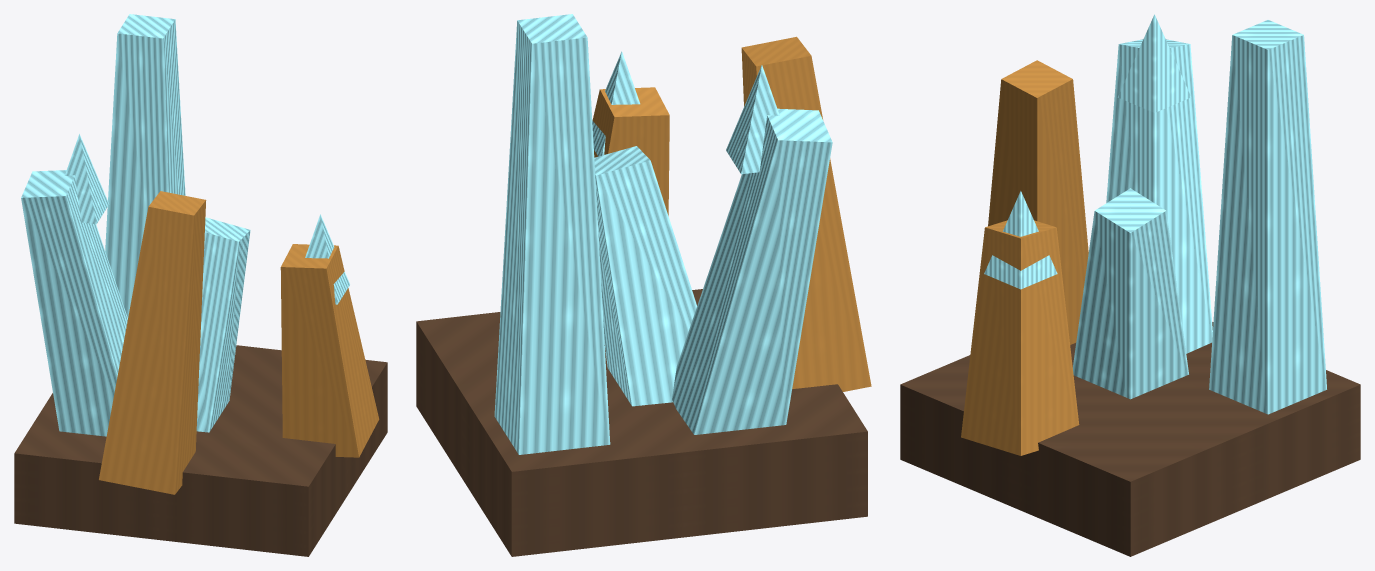
The model's file is atlas100-s013-a04.lod2.glb.
3 renders of one model, left to right at view 1: azimuth 30°, elevation 25°; view 2: azimuth 150°, elevation 25°; view 3: azimuth 270°, elevation 25°, orthographic. The views are drawn at different scales.
Parts seen in each view (by area): view 1: atlas100-s013-a04:part-000, atlas100-s013-a04:part-003, atlas100-s013-a04:part-009, atlas100-s013-a04:part-005, atlas100-s013-a04:part-007, atlas100-s013-a04:part-001, atlas100-s013-a04:part-010, atlas100-s013-a04:part-008; view 2: atlas100-s013-a04:part-000, atlas100-s013-a04:part-005, atlas100-s013-a04:part-009, atlas100-s013-a04:part-001, atlas100-s013-a04:part-003, atlas100-s013-a04:part-007, atlas100-s013-a04:part-010, atlas100-s013-a04:part-008; view 3: atlas100-s013-a04:part-000, atlas100-s013-a04:part-005, atlas100-s013-a04:part-007, atlas100-s013-a04:part-001, atlas100-s013-a04:part-003, atlas100-s013-a04:part-009, atlas100-s013-a04:part-010, atlas100-s013-a04:part-008.
Part boxes in pixels (left/top/right/bottom): atlas100-s013-a04:part-000: left=14, top=345, right=387, bottom=556; atlas100-s013-a04:part-003: left=99, top=191, right=206, bottom=494; atlas100-s013-a04:part-009: left=21, top=170, right=127, bottom=436; atlas100-s013-a04:part-005: left=105, top=14, right=185, bottom=317; atlas100-s013-a04:part-007: left=280, top=244, right=379, bottom=457; atlas100-s013-a04:part-001: left=196, top=217, right=250, bottom=432; atlas100-s013-a04:part-010: left=64, top=134, right=109, bottom=224; atlas100-s013-a04:part-008: left=305, top=214, right=349, bottom=304; atlas100-s013-a04:part-000: left=416, top=289, right=867, bottom=556; atlas100-s013-a04:part-005: left=494, top=14, right=610, bottom=454; atlas100-s013-a04:part-009: left=672, top=108, right=832, bottom=434; atlas100-s013-a04:part-001: left=594, top=146, right=696, bottom=406; atlas100-s013-a04:part-003: left=741, top=36, right=871, bottom=391; atlas100-s013-a04:part-007: left=592, top=87, right=669, bottom=215; atlas100-s013-a04:part-010: left=726, top=65, right=779, bottom=174; atlas100-s013-a04:part-008: left=592, top=51, right=640, bottom=156; atlas100-s013-a04:part-000: left=900, top=322, right=1360, bottom=556; atlas100-s013-a04:part-005: left=1209, top=20, right=1326, bottom=414; atlas100-s013-a04:part-007: left=961, top=220, right=1079, bottom=455; atlas100-s013-a04:part-001: left=1072, top=188, right=1188, bottom=399; atlas100-s013-a04:part-003: left=988, top=60, right=1088, bottom=344; atlas100-s013-a04:part-009: left=1106, top=39, right=1212, bottom=353; atlas100-s013-a04:part-010: left=1118, top=14, right=1191, bottom=112; atlas100-s013-a04:part-008: left=984, top=191, right=1057, bottom=289.
Bounding box in the file's own units: 1.07 × 1.1 × 1.07.
3 materials, 3 textured.
